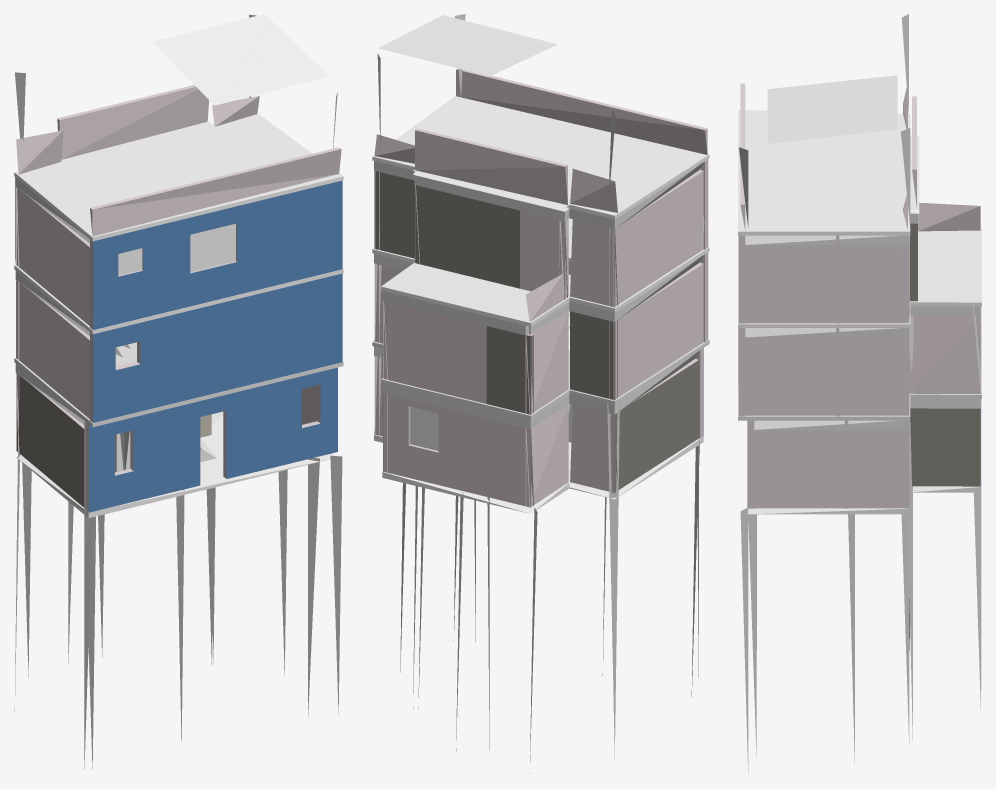
3 renders of one model, left to right at view 1: azimuth 30°, elevation 25°; view 2: azimuth 150°, elevation 25°; view 3: azimuth 270°, elevation 25°, orthographic.
Visible parts, largest first — view 1: F_30; view 2: F_30; view 3: F_30.
Part boxes in pixels (left/top/right/bottom): F_30: left=14, top=14, right=343, bottom=769; F_30: left=372, top=14, right=709, bottom=773; F_30: left=738, top=14, right=981, bottom=773.
Bounding box in the file's own units: 8.1 × 19.92 × 6.81.
